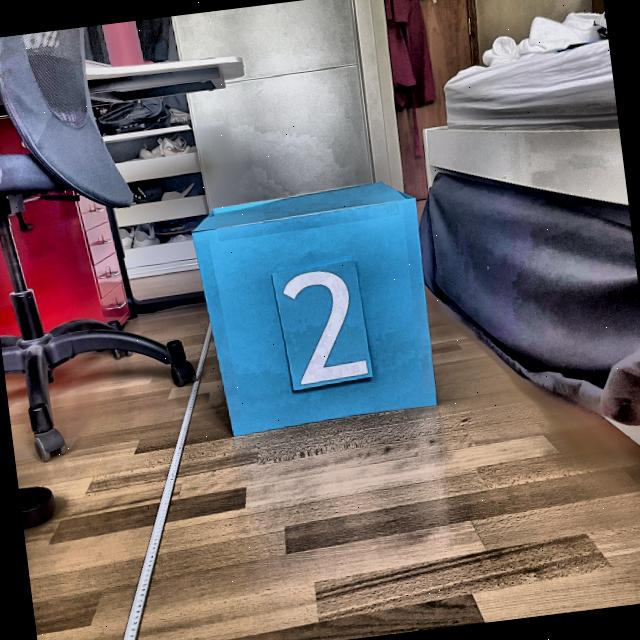blue box: (187, 172, 446, 442)
two: (277, 261, 374, 388)
